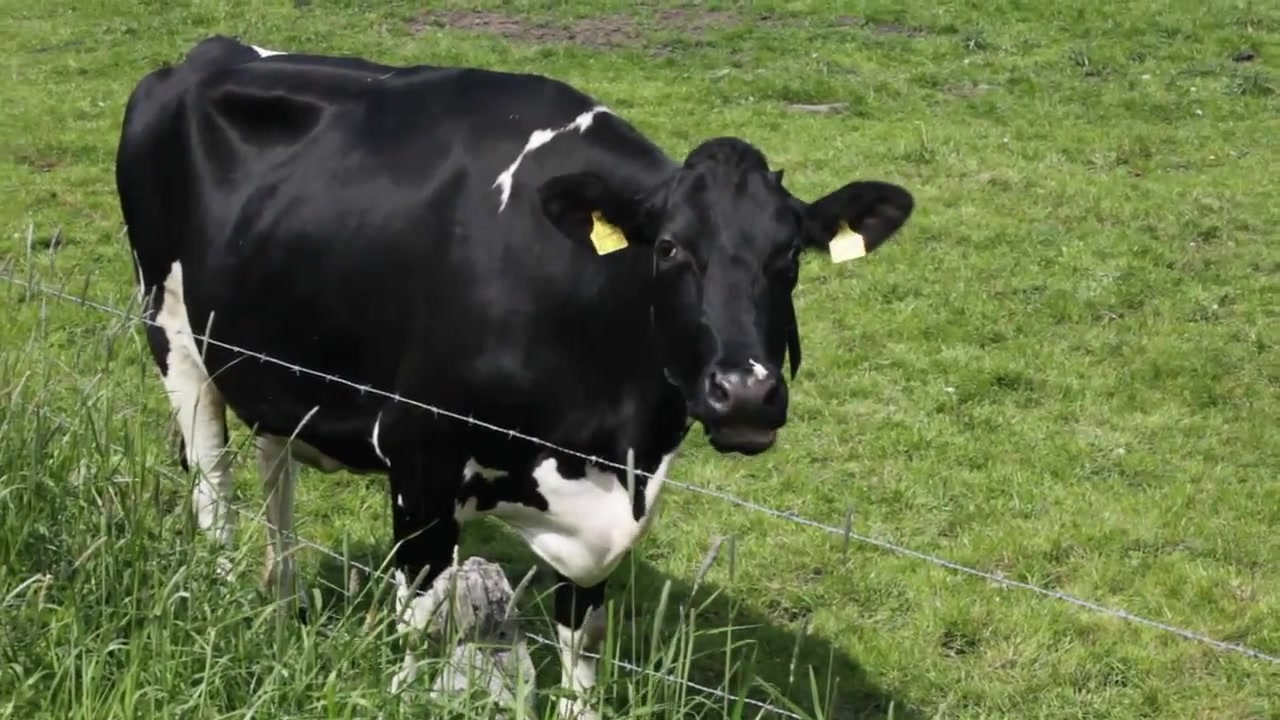cow: (104, 37, 915, 720)
